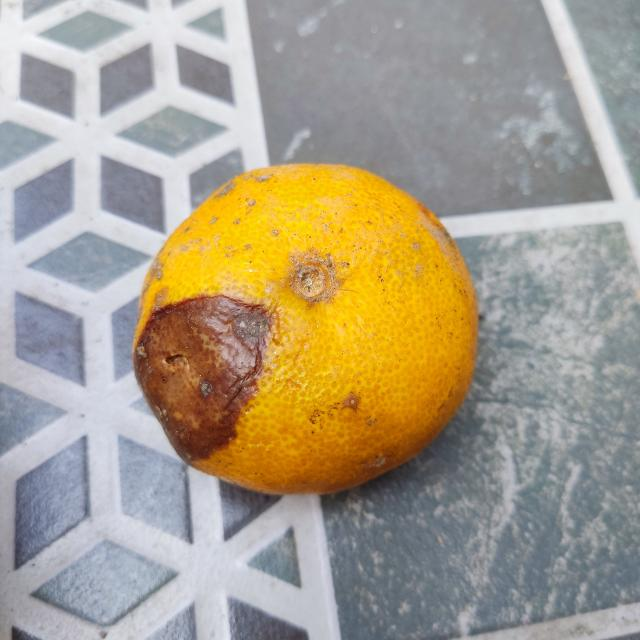orange: (132, 159, 478, 496)
